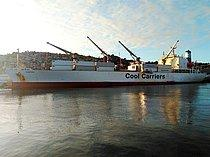Ship: (4, 33, 210, 100)
